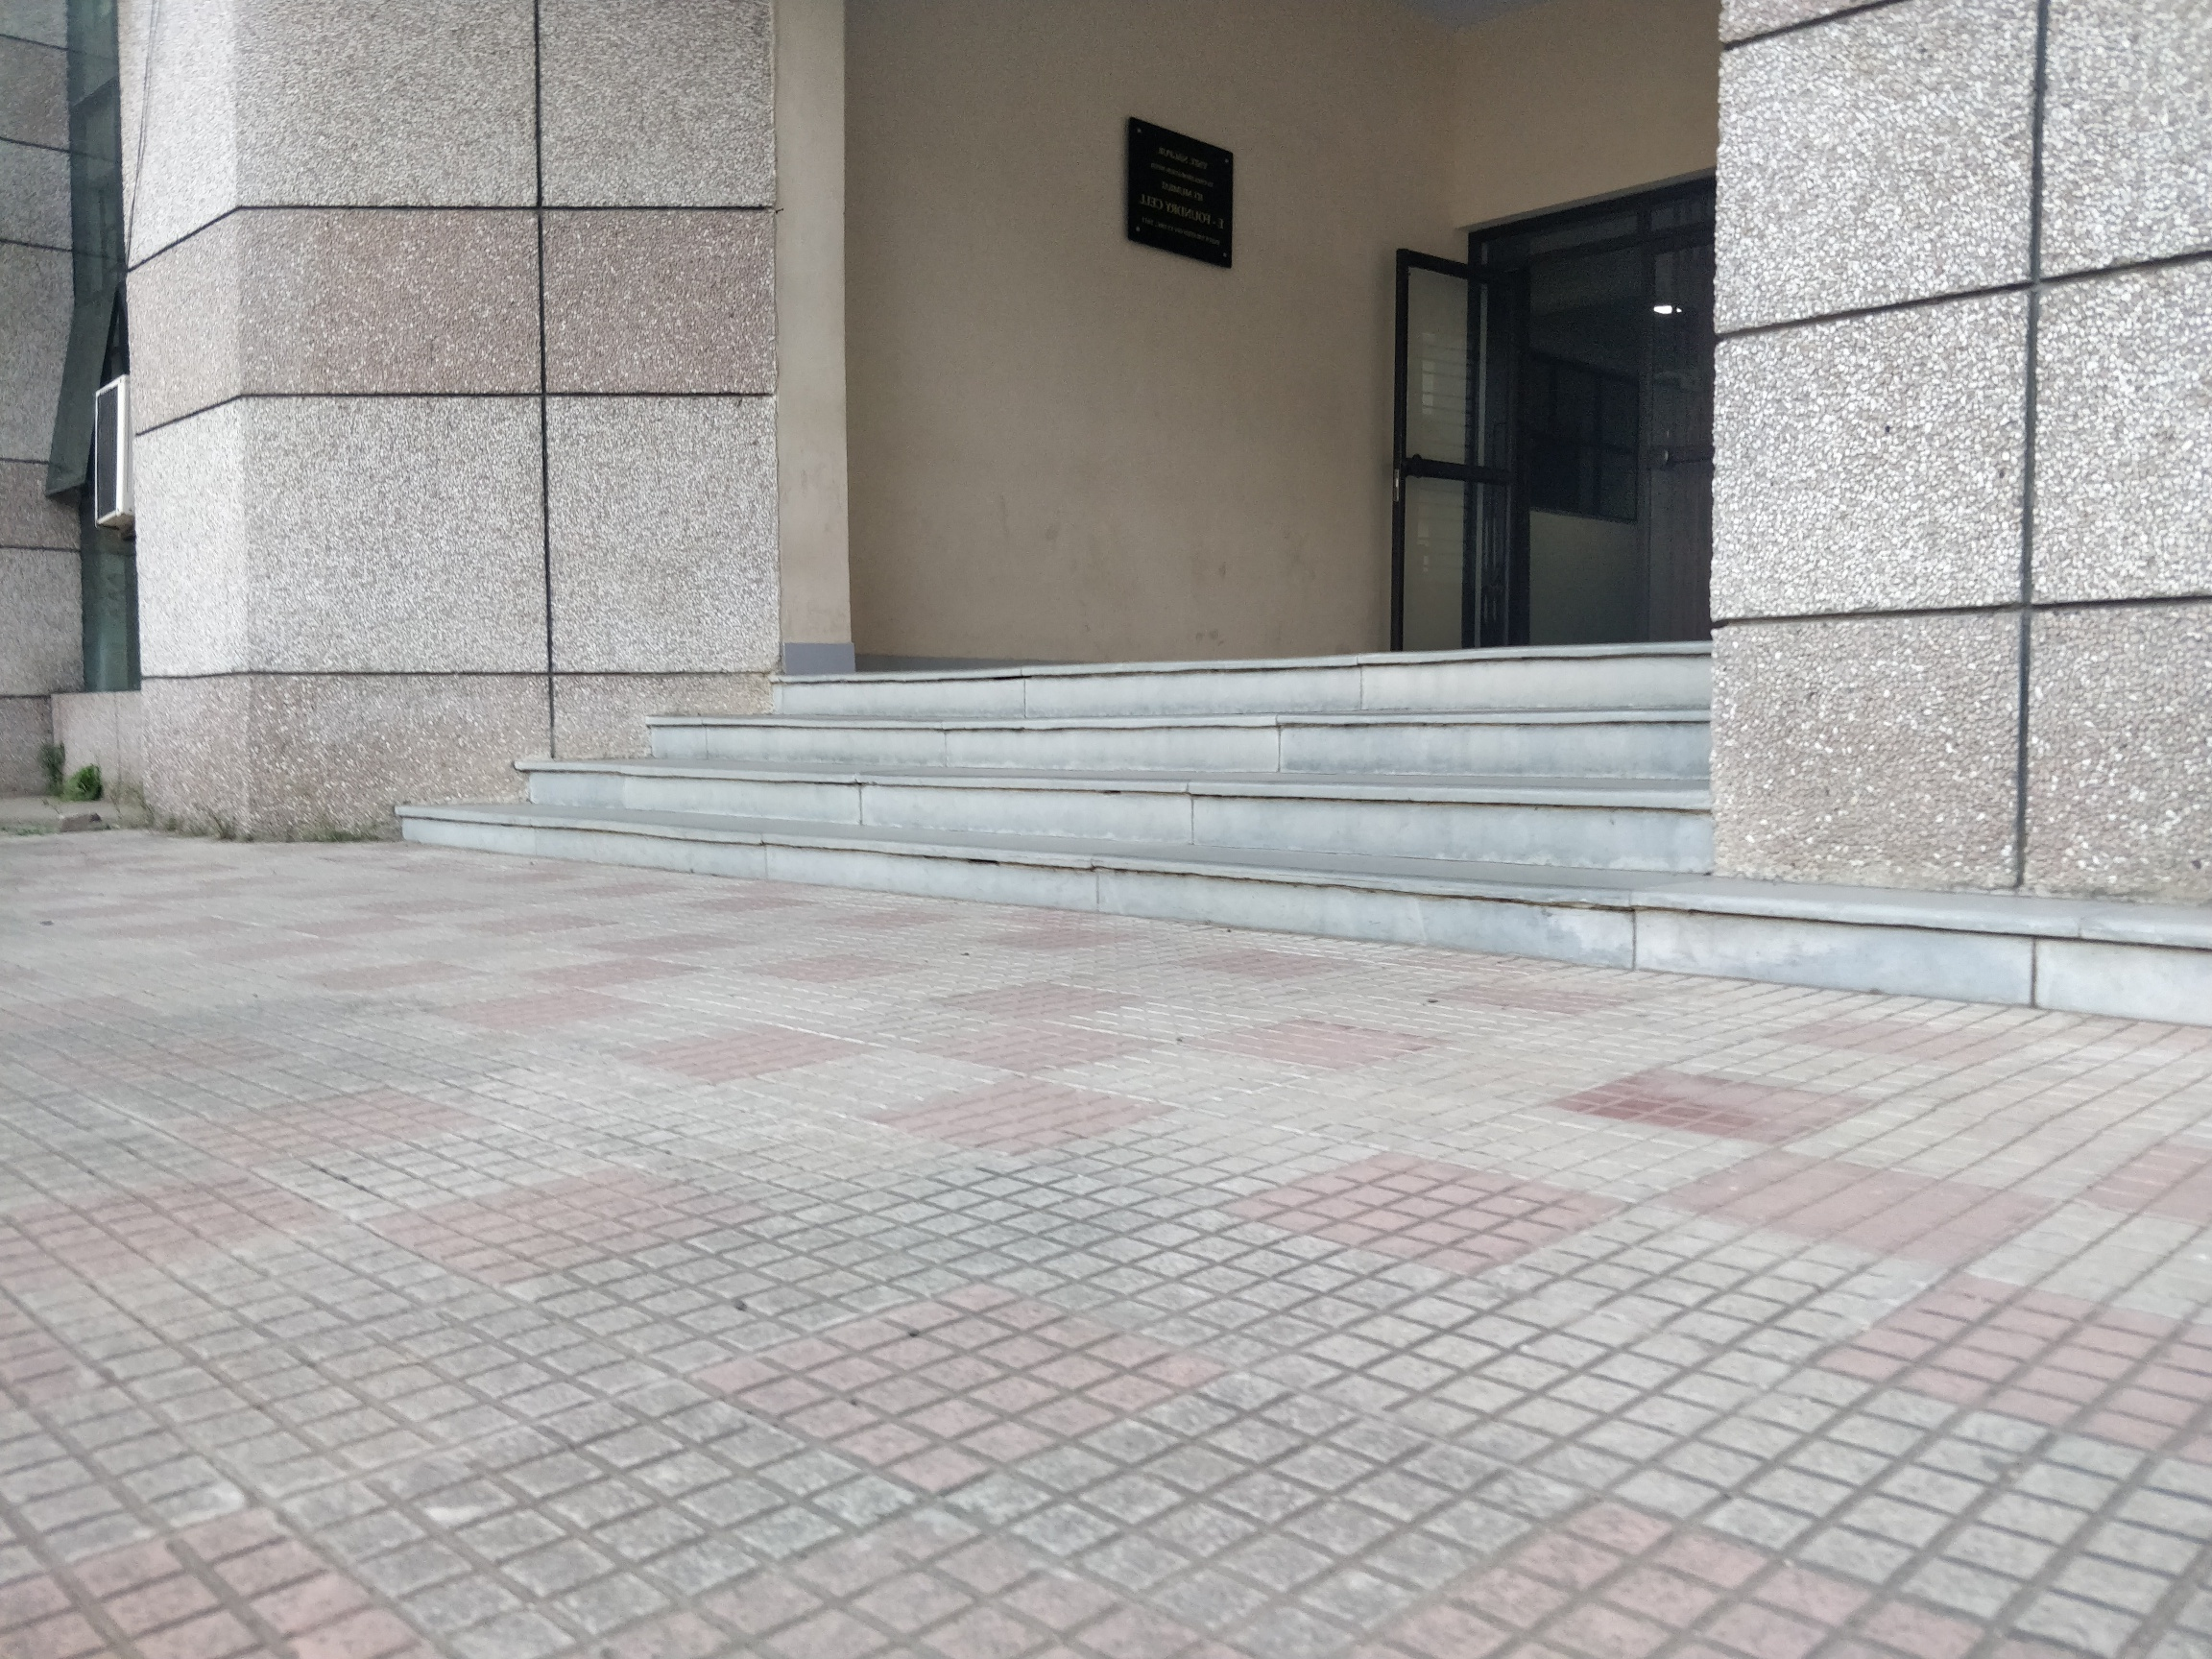stairs_up: (456, 626, 1707, 941)
